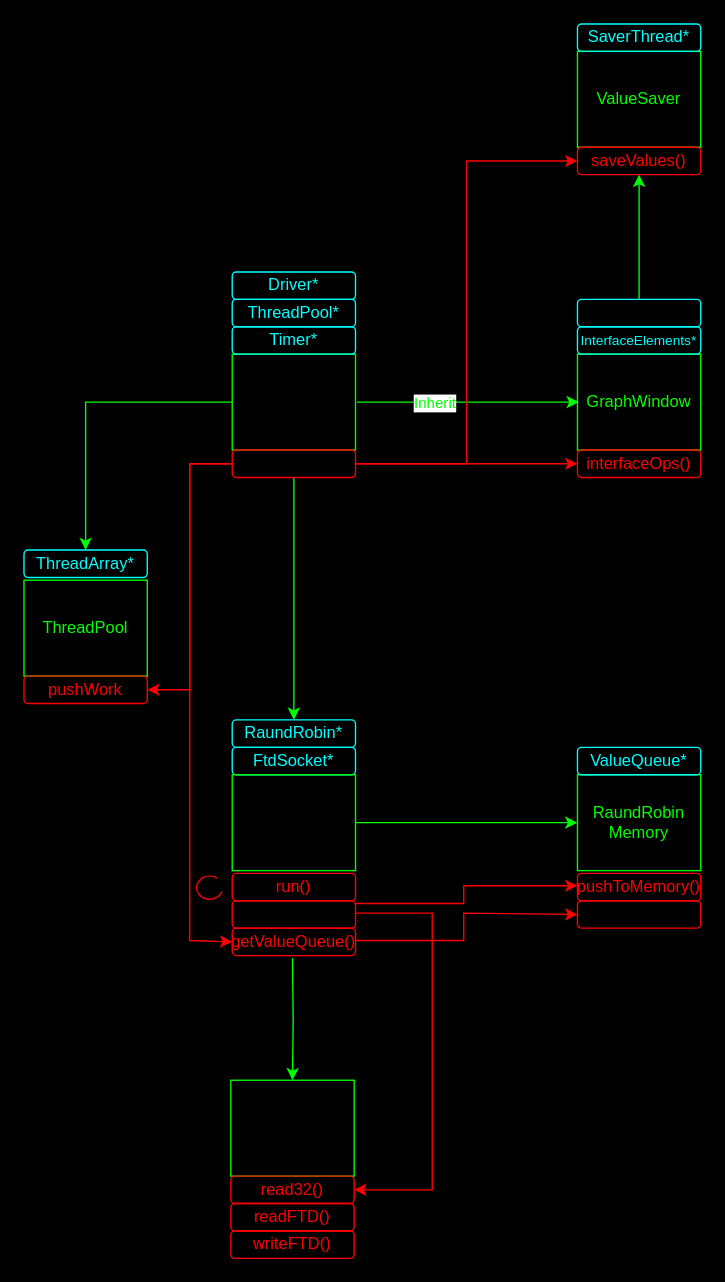
Some shapes in this 725 by 1282 pixel diagram are drawn without their labels. The shapes that lost their labels are listed below. From the top down, each one's centre as x and y in pixels, then its label:
At point 638,312: "ValueSaver*".
At point 293,401: "GraphWorker".
At point 293,463: "refreshValues()".
At point 293,822: "Driver".
At point 293,913: "parseValues()".
At point 638,913: "getLastQueue()".
At point 291,1127: "FTDSocket".
